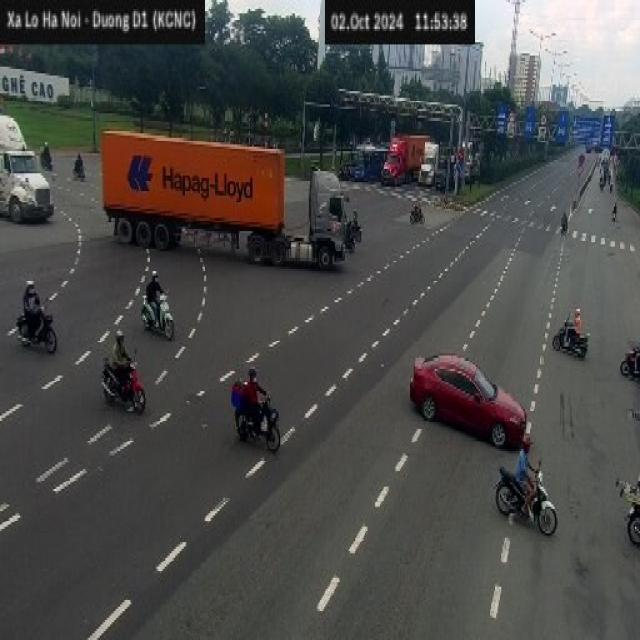car: (409, 351, 526, 449)
container-truck: (99, 124, 360, 269)
motorcycle: (493, 458, 558, 536), (100, 349, 146, 413), (234, 393, 280, 451), (15, 309, 56, 353), (140, 289, 174, 340), (551, 313, 589, 358), (615, 476, 639, 546), (619, 338, 639, 378)
person: (514, 434, 538, 516), (112, 329, 136, 398), (22, 278, 44, 340), (145, 269, 164, 327), (40, 140, 51, 169), (74, 151, 84, 176)
